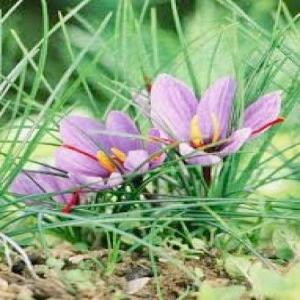Saffron: (152, 72, 284, 165), (57, 110, 164, 190)
